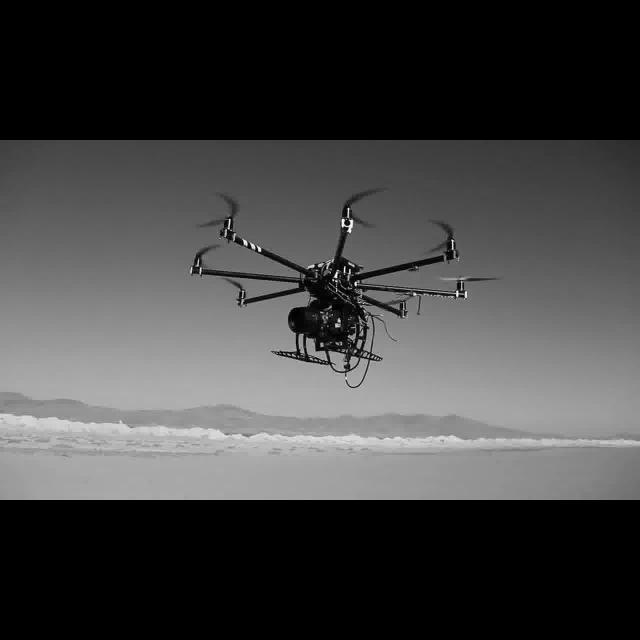Drons: (180, 184, 426, 372)
